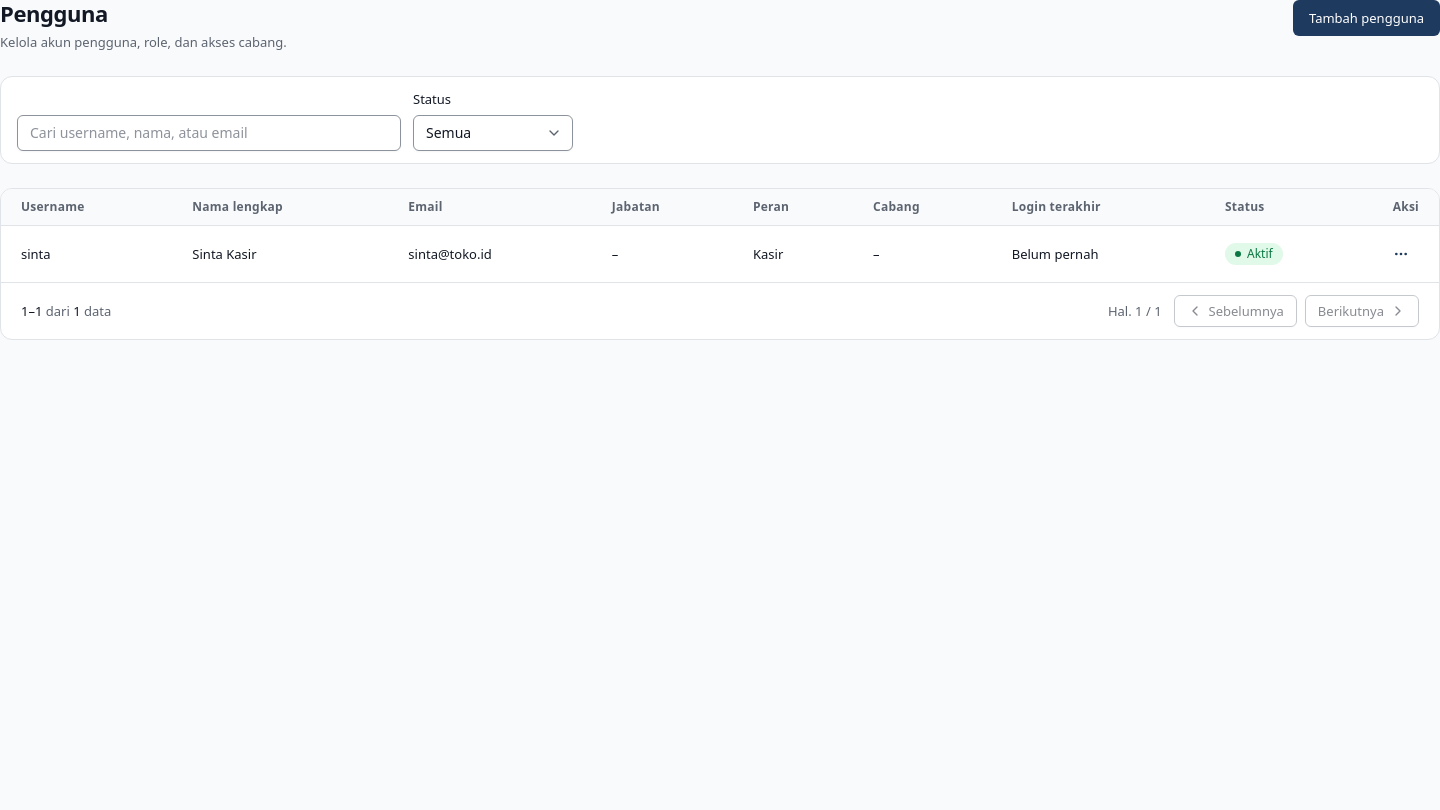
Test case: halaman pengguna — buat pengguna › username duplikat dari server tampil pada isian username
Check: the text "sinta" is shown, box [21, 244, 51, 262]
Click the button "Tambah pengguna": coordinates (1366, 18) [1293, 0, 1439, 36]
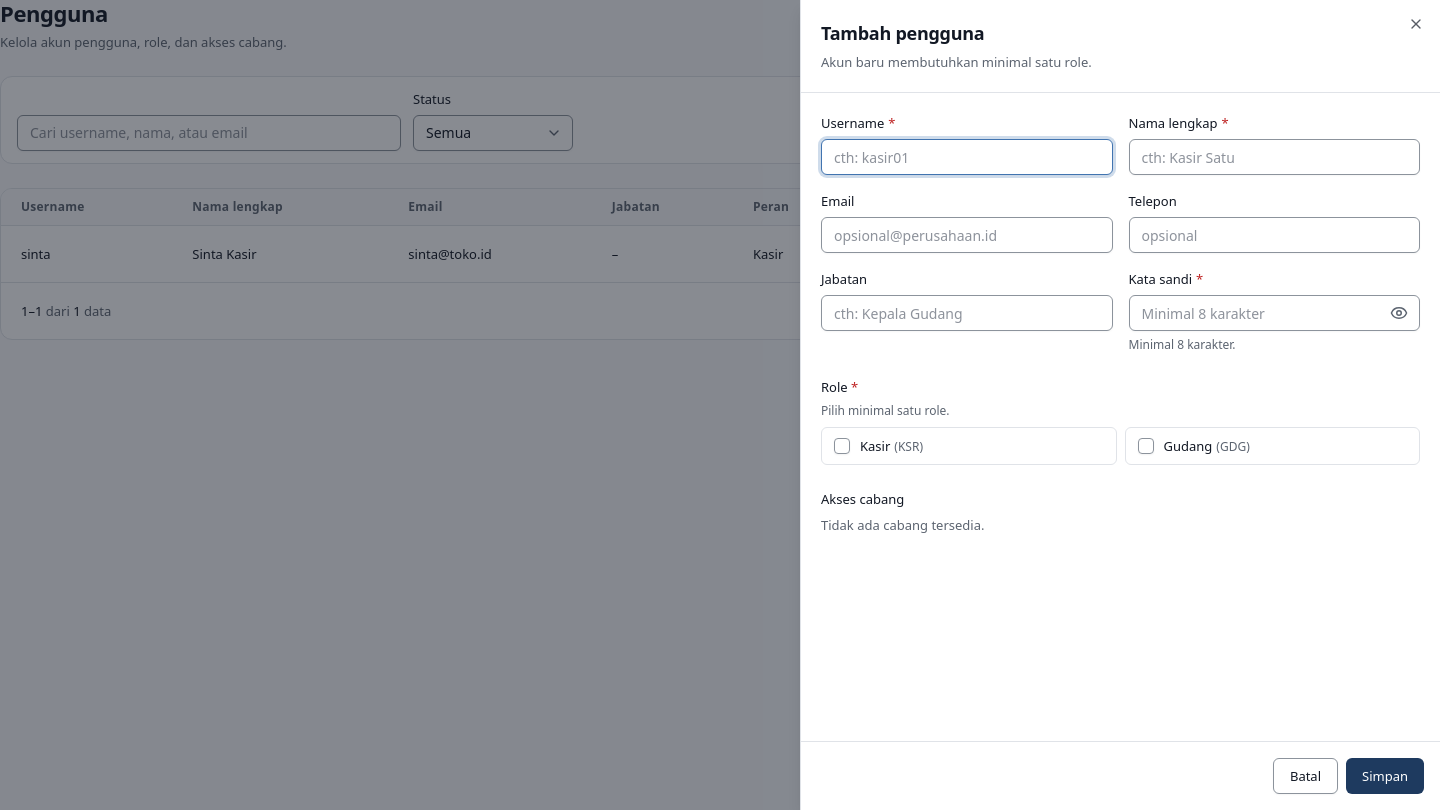
Check: the field labelled "Username *" is shown
In the field labelled "Username *": coordinates (967, 157) [821, 139, 1112, 175], type "sinta"
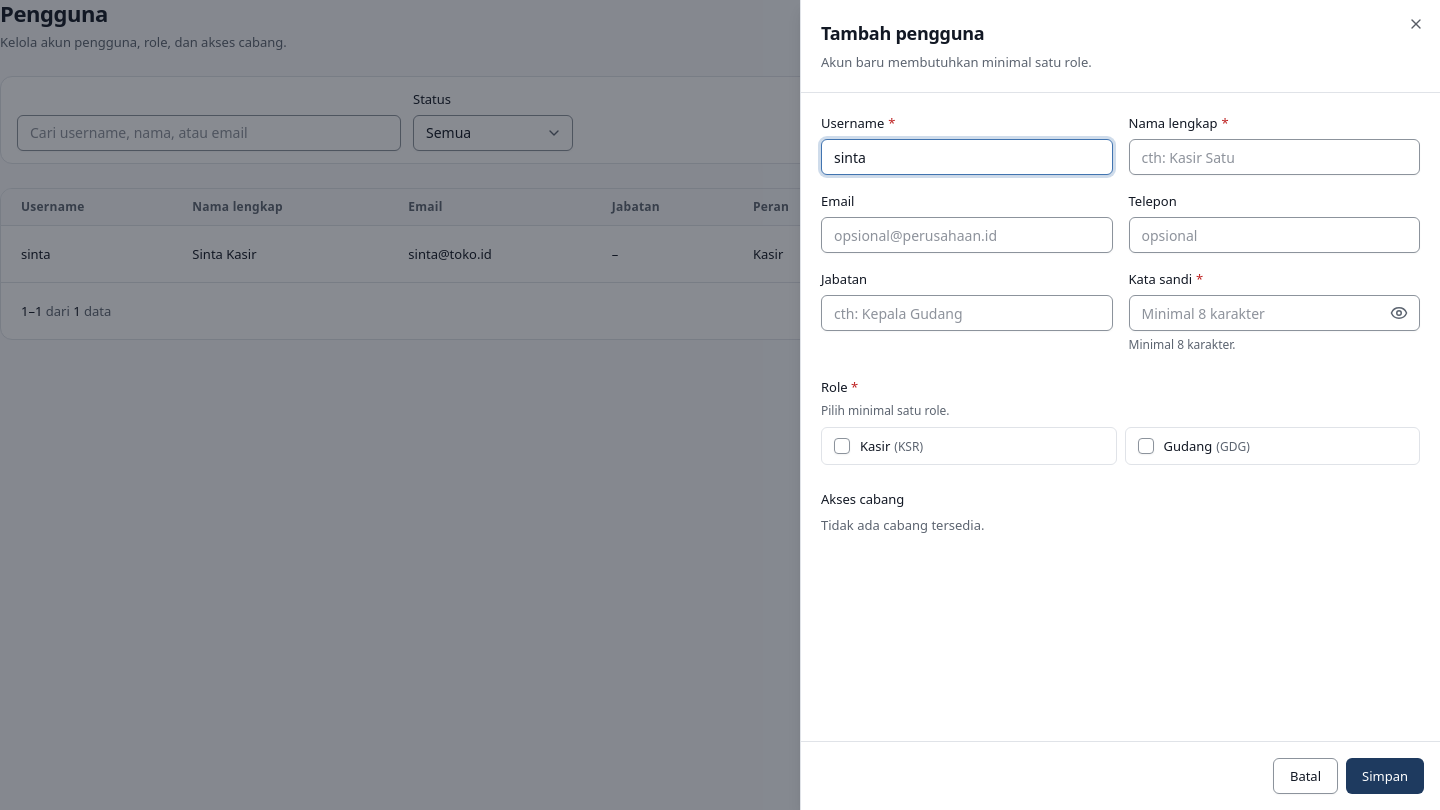
In the field labelled "Nama lengkap *": coordinates (1274, 157) [1128, 139, 1420, 175], type "Sinta Dua"
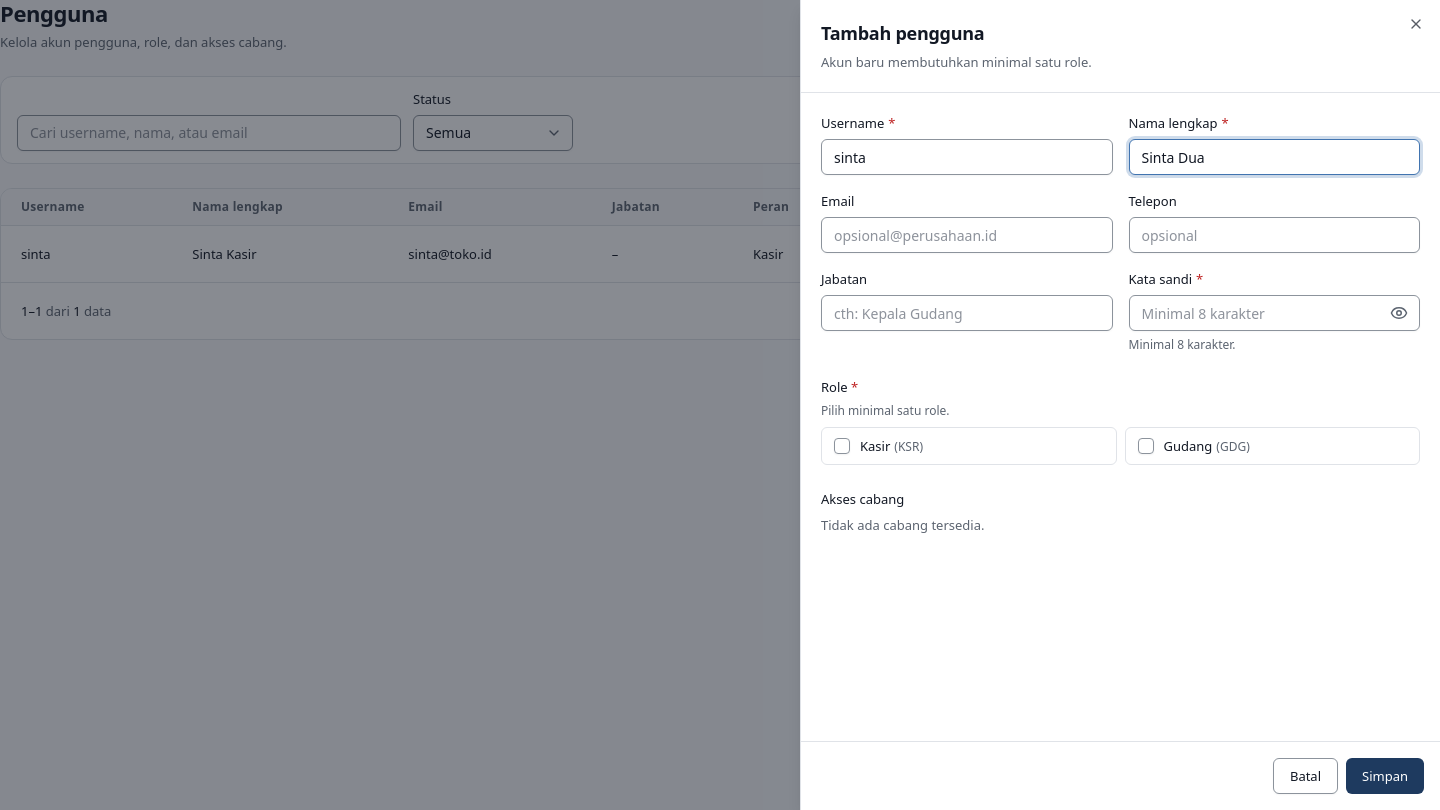
In the password field labelled "Kata sandi *": coordinates (1274, 313) [1128, 295, 1420, 331], type "rahasia123"
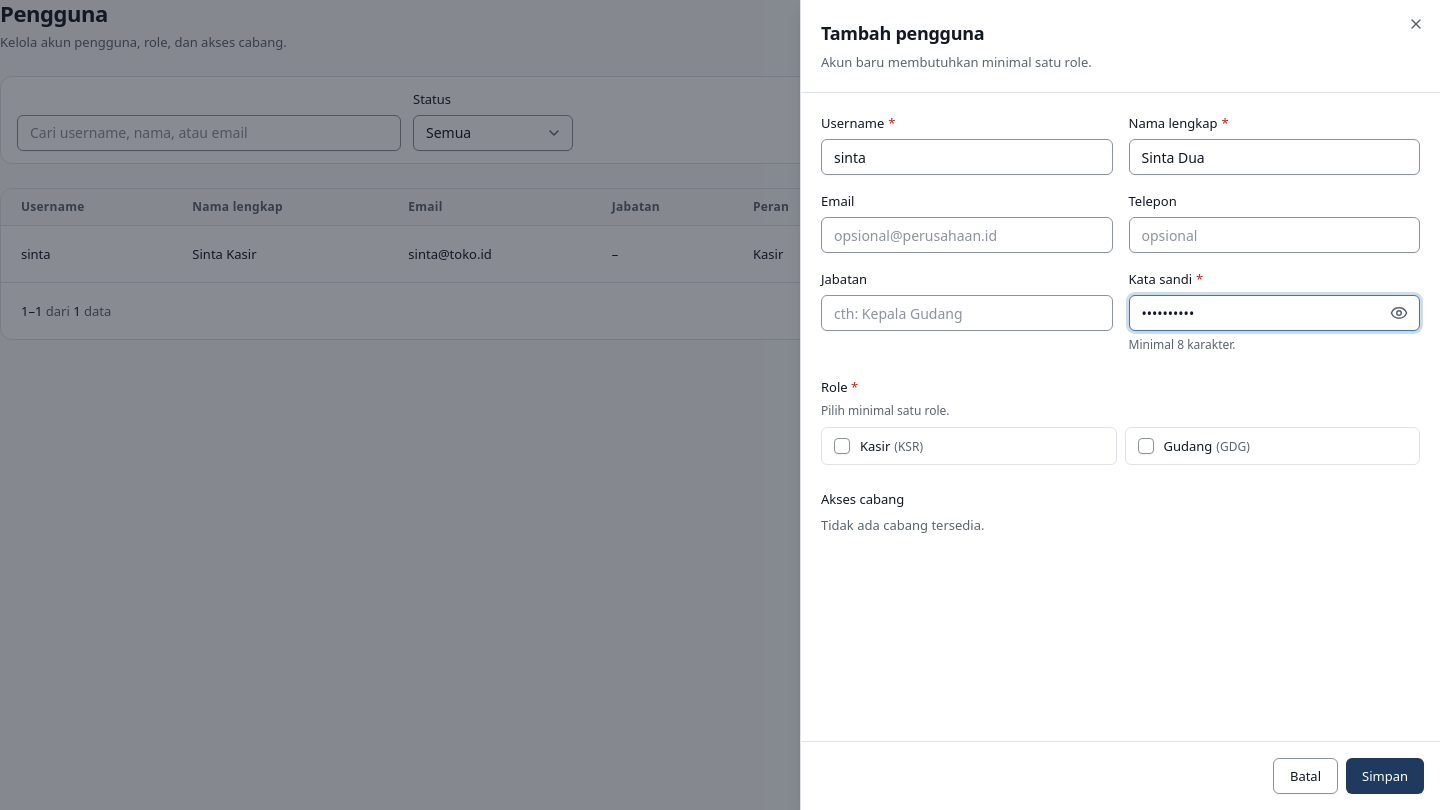
Click the checkbox named "Kasir" in the row of "KSR": coordinates (842, 446) [834, 438, 850, 454]
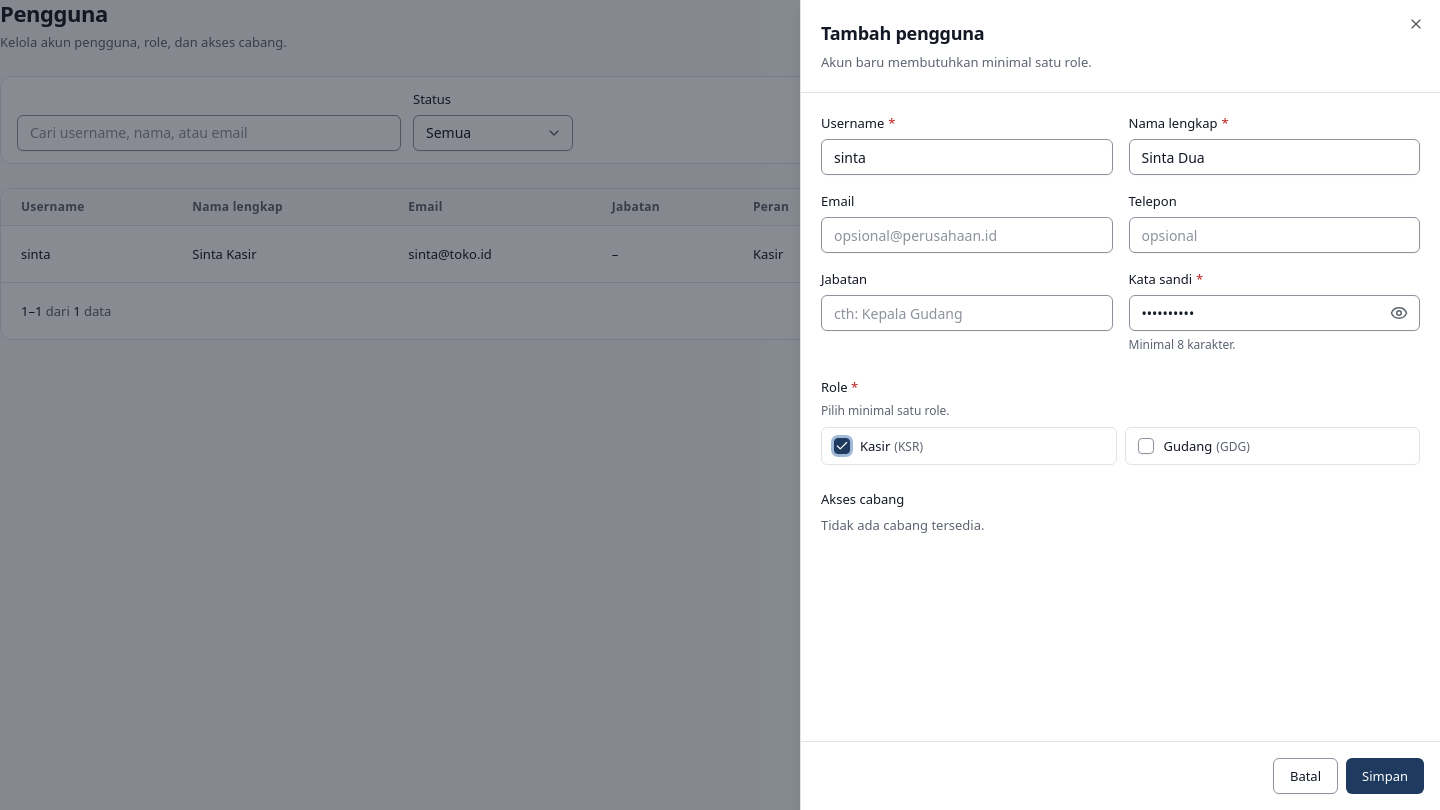
Click the button "Simpan": coordinates (1385, 776) [1346, 758, 1424, 794]
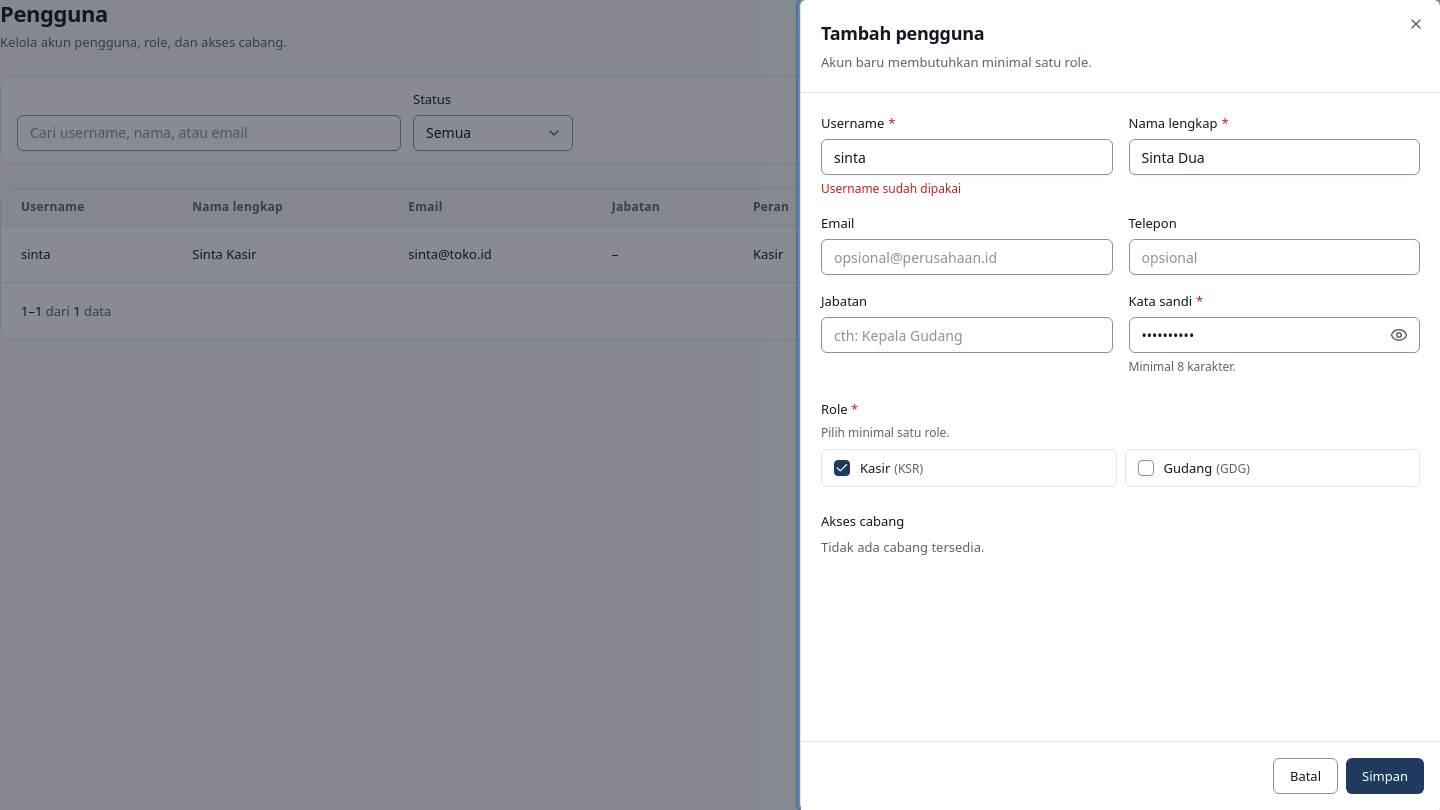
Check: the text "Username sudah dipakai" is shown, box [821, 180, 961, 197]
